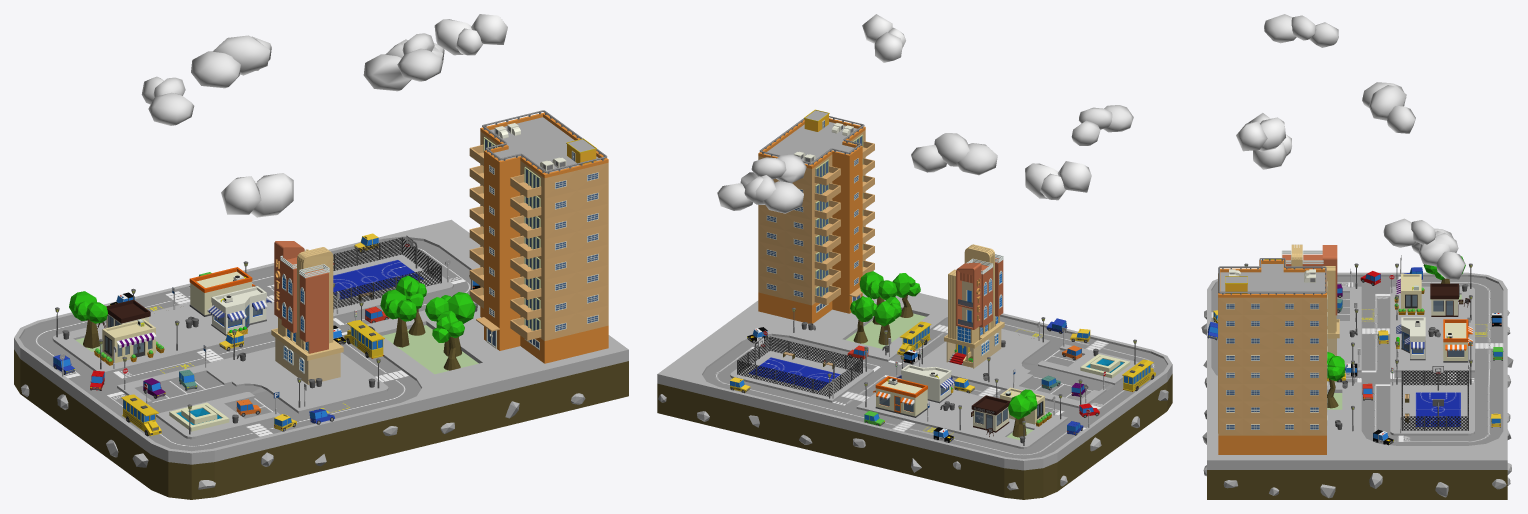
The model's file is lowpolycity.glb.
The picture shows the model from 3 angles, left to right: view 1: azimuth 30°, elevation 25°; view 2: azimuth 150°, elevation 25°; view 3: azimuth 270°, elevation 25°; orthographic projection. The views are drawn at different scales.
Parts seen in each view (by area): view 1: Palazzo, Sphere.005, Marciapiede, Hotel, Cylinder.005, Icosphere.005, Strada senso unico, Icosphere.003, Icosphere.001, Icosphere.002, casaBlu, CasaViola (+33 smaller); view 2: Sphere.005, Palazzo, Marciapiede, Hotel, Icosphere.005, Cylinder.005, Icosphere.003, Strada senso unico, Icosphere.001, casaArancione, Icosphere.004, Icosphere.002 (+22 smaller); view 3: Palazzo, Marciapiede, Sphere.005, Icosphere.005, Hotel, Cylinder.005, Icosphere.003, Icosphere.004, roccie, Icosphere.002, casaArancione, casaBlu (+29 smaller).
Part boxes in pixels (left/top/right/bottom): Palazzo: left=469, top=110, right=608, bottom=363; Sphere.005: left=14, top=338, right=628, bottom=499; Marciapiede: left=58, top=219, right=628, bottom=434; Hotel: left=271, top=241, right=343, bottom=384; Cylinder.005: left=333, top=237, right=441, bottom=308; Icosphere.005: left=363, top=33, right=444, bottom=91; Strada senso unico: left=136, top=372, right=297, bottom=418; Icosphere.003: left=191, top=35, right=271, bottom=88; Icosphere.001: left=221, top=173, right=293, bottom=217; Icosphere.002: left=434, top=14, right=507, bottom=55; casaBlu: left=207, top=286, right=271, bottom=335; CasaViola: left=94, top=319, right=164, bottom=365; Sphere.005: left=657, top=364, right=1172, bottom=499; Palazzo: left=758, top=109, right=874, bottom=323; Marciapiede: left=658, top=293, right=1135, bottom=445; Hotel: left=944, top=244, right=1004, bottom=368; Icosphere.005: left=717, top=154, right=806, bottom=213; Cylinder.005: left=737, top=336, right=862, bottom=396; Icosphere.003: left=911, top=133, right=997, bottom=175; Strada senso unico: left=1020, top=342, right=1114, bottom=400; Icosphere.001: left=1025, top=161, right=1091, bottom=200; casaArancione: left=873, top=376, right=927, bottom=417; Icosphere.004: left=1071, top=105, right=1133, bottom=145; Icosphere.002: left=862, top=14, right=905, bottom=62; Palazzo: left=1218, top=258, right=1327, bottom=454; Marciapiede: left=1207, top=288, right=1507, bottom=460; Sphere.005: left=1207, top=460, right=1507, bottom=499; Icosphere.005: left=1383, top=218, right=1465, bottom=279; Hotel: left=1281, top=244, right=1339, bottom=355; Cylinder.005: left=1401, top=370, right=1468, bottom=430; Icosphere.003: left=1362, top=82, right=1415, bottom=133; Icosphere.004: left=1264, top=14, right=1338, bottom=47; roccie: left=1201, top=310, right=1513, bottom=498; Icosphere.002: left=1236, top=117, right=1285, bottom=151; casaArancione: left=1443, top=319, right=1472, bottom=362; casaBlu: left=1396, top=317, right=1425, bottom=360.
Size of the model in its own units: 24.83 by 19.68 by 16.86.
Materials: 9 (8 with a texture image).
